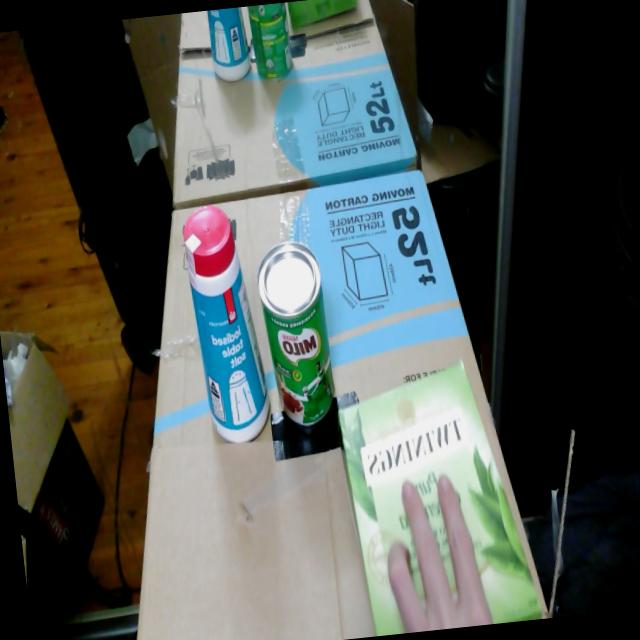nestle_milo_tin: (257, 241, 334, 426)
twinings_greentea_box: (337, 361, 542, 635)
woolworths_salt_bottle: (183, 205, 269, 442)
